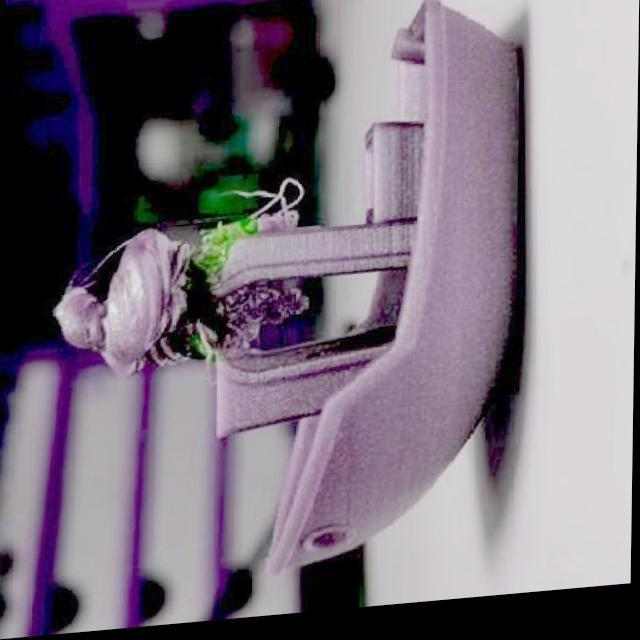spaghetti: (195, 183, 304, 284), (208, 284, 310, 365)
